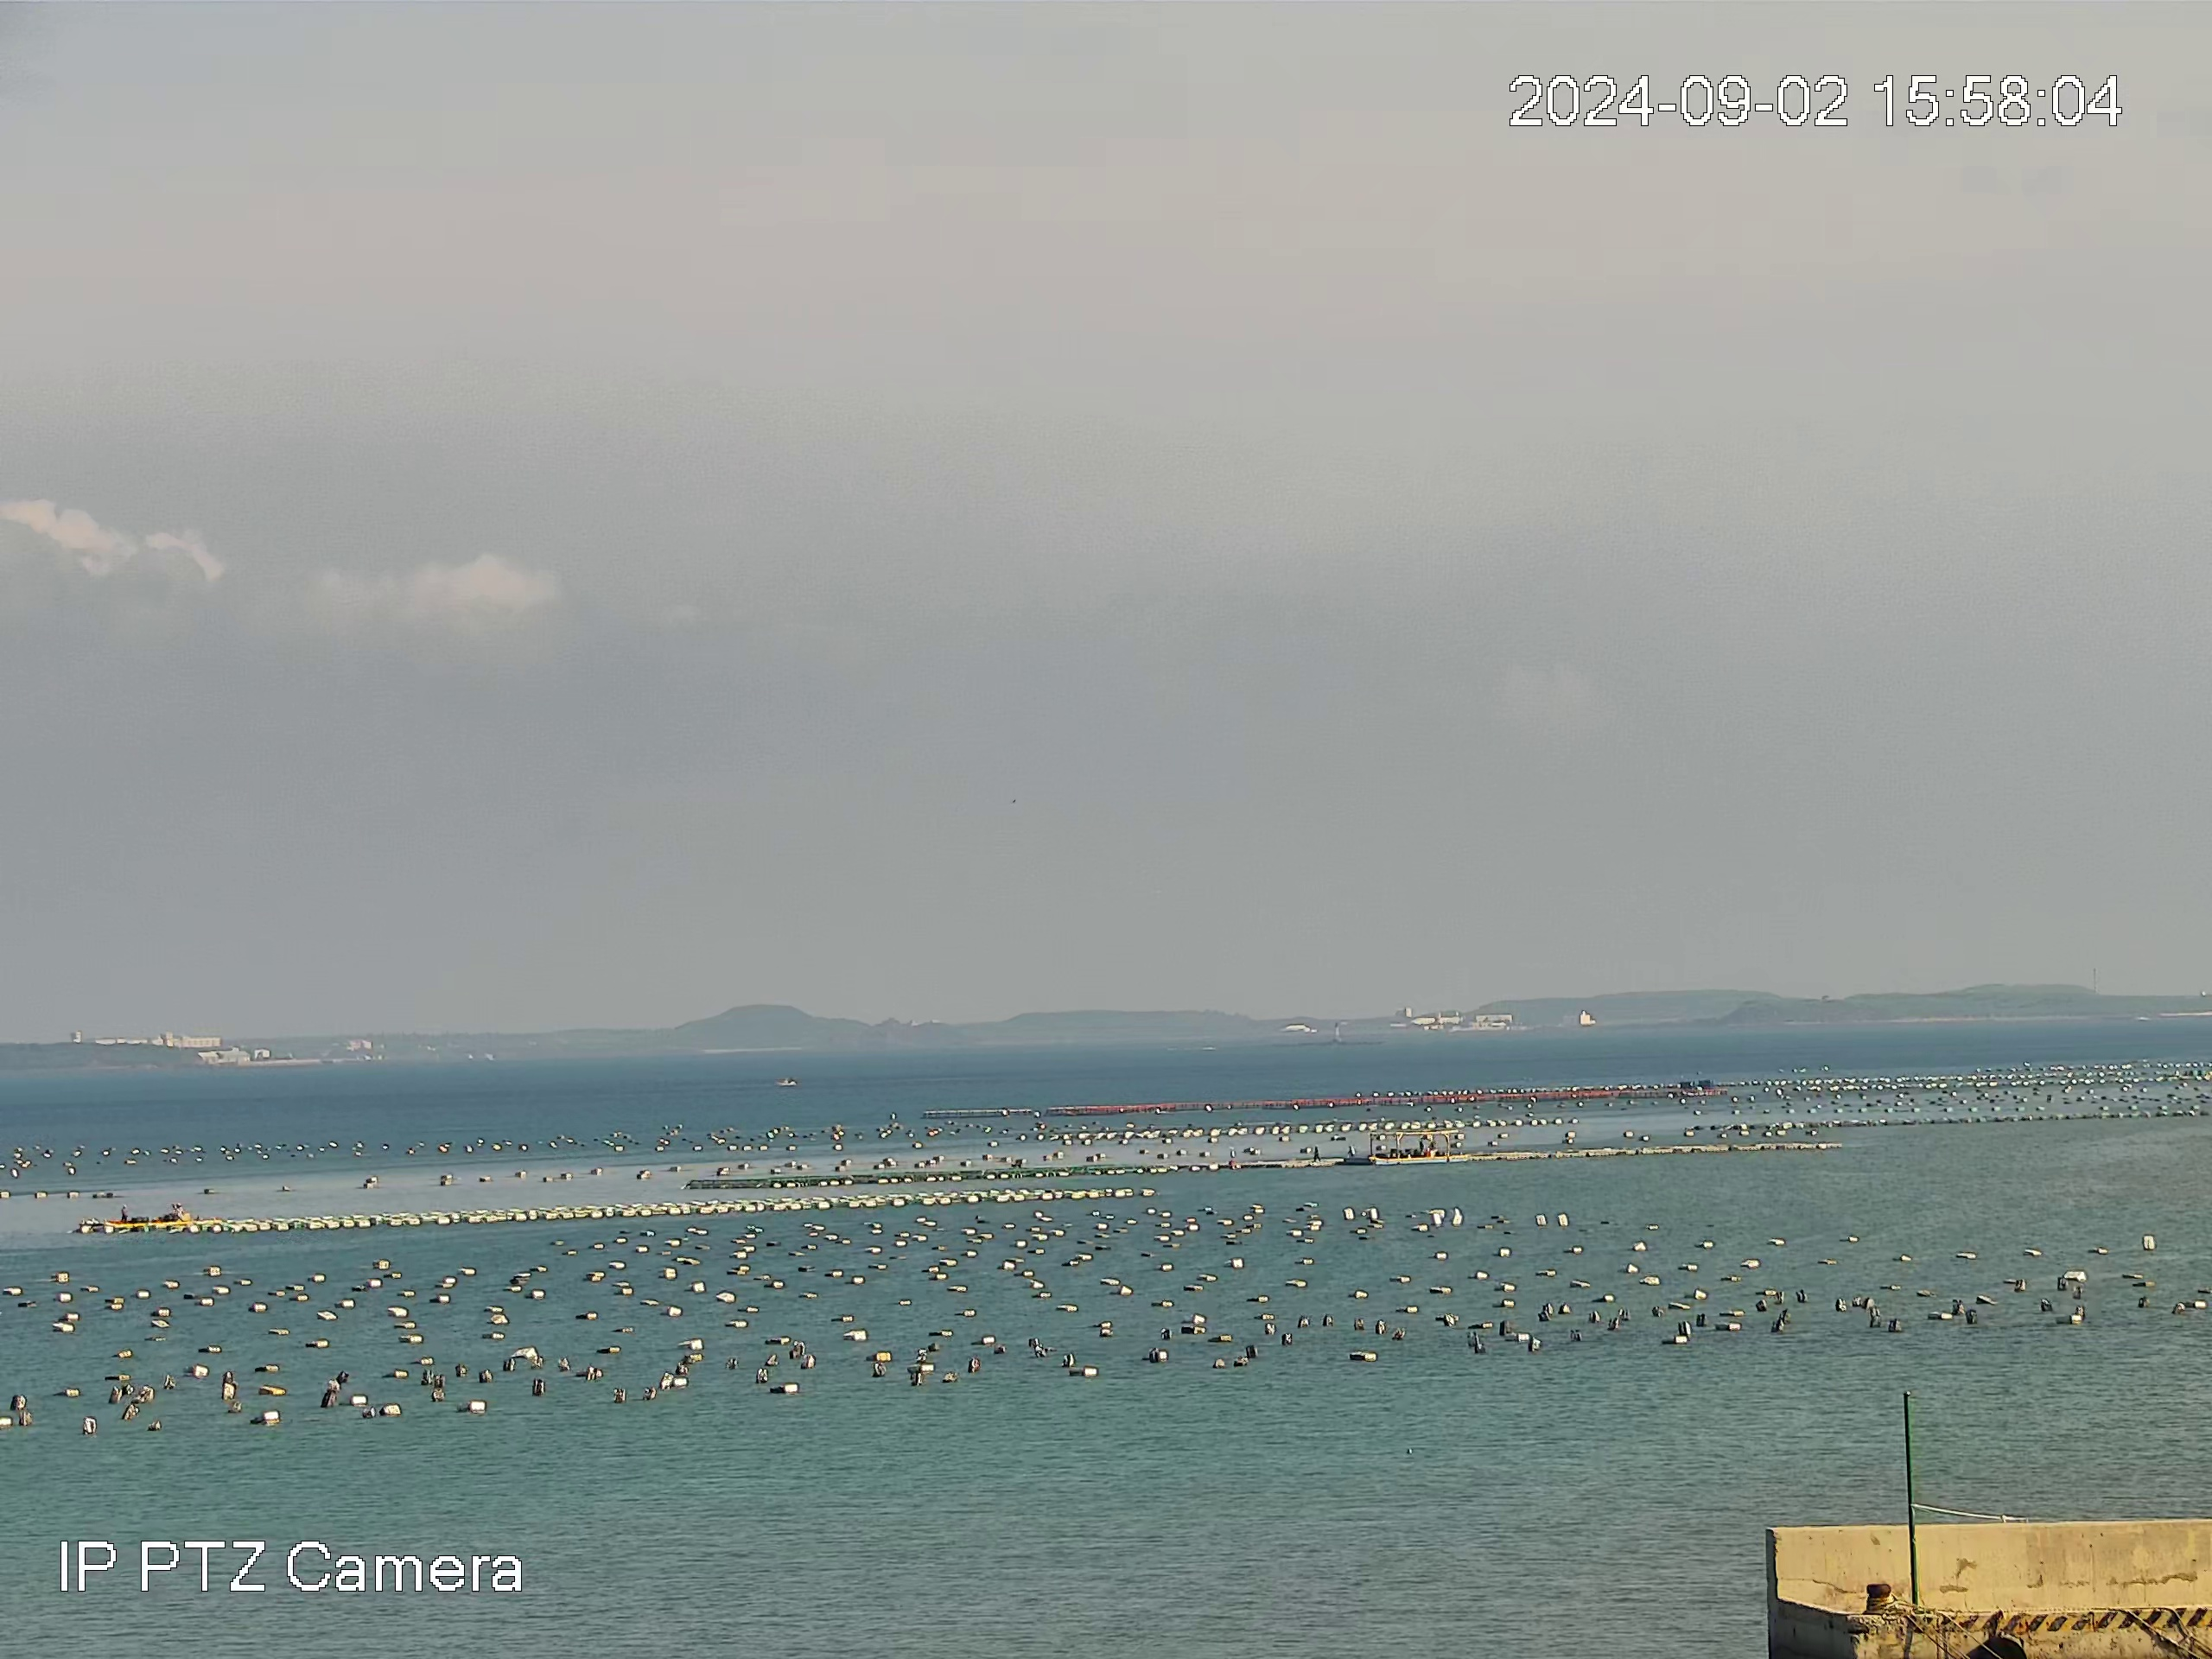boat: (1367, 1127, 1470, 1166), (102, 1201, 225, 1225), (774, 1076, 798, 1088)
